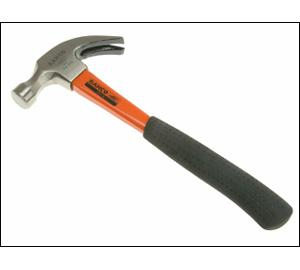hammer: (9, 32, 293, 231)
